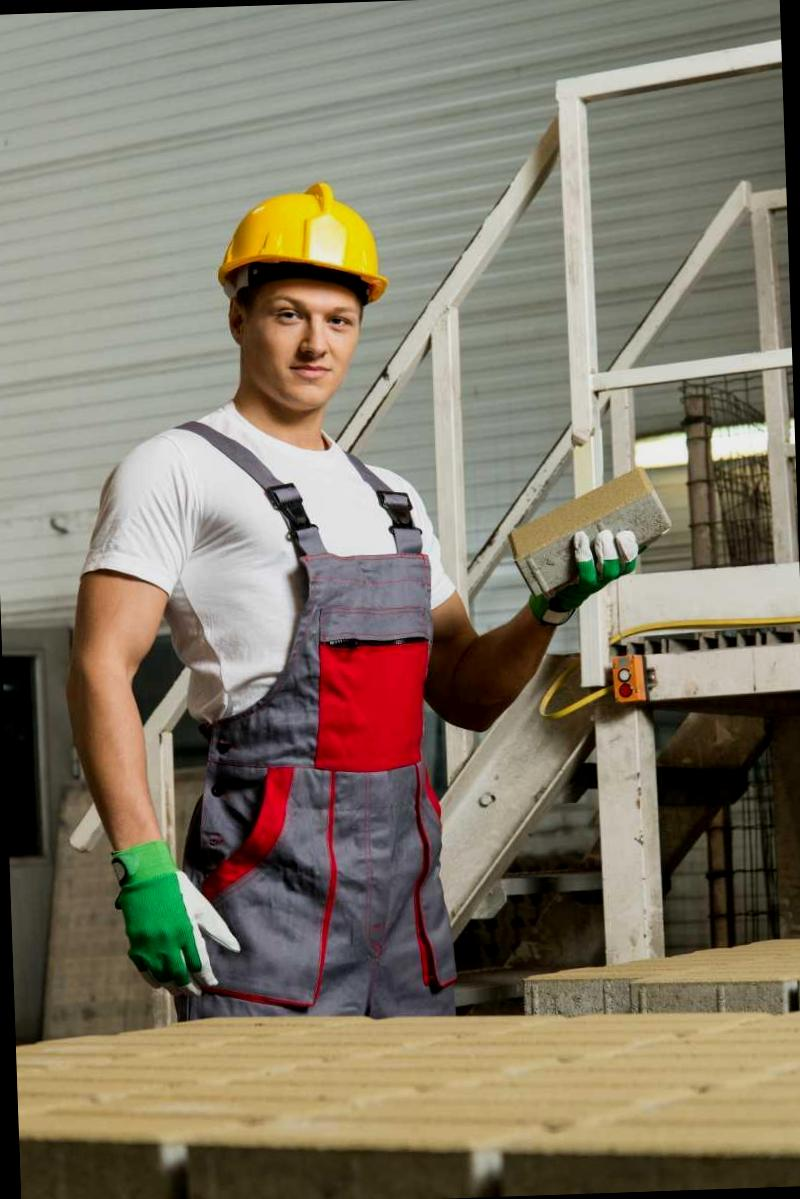helmet: (196, 167, 415, 306)
no_vest: (88, 395, 481, 960)
person: (46, 170, 529, 1014)
